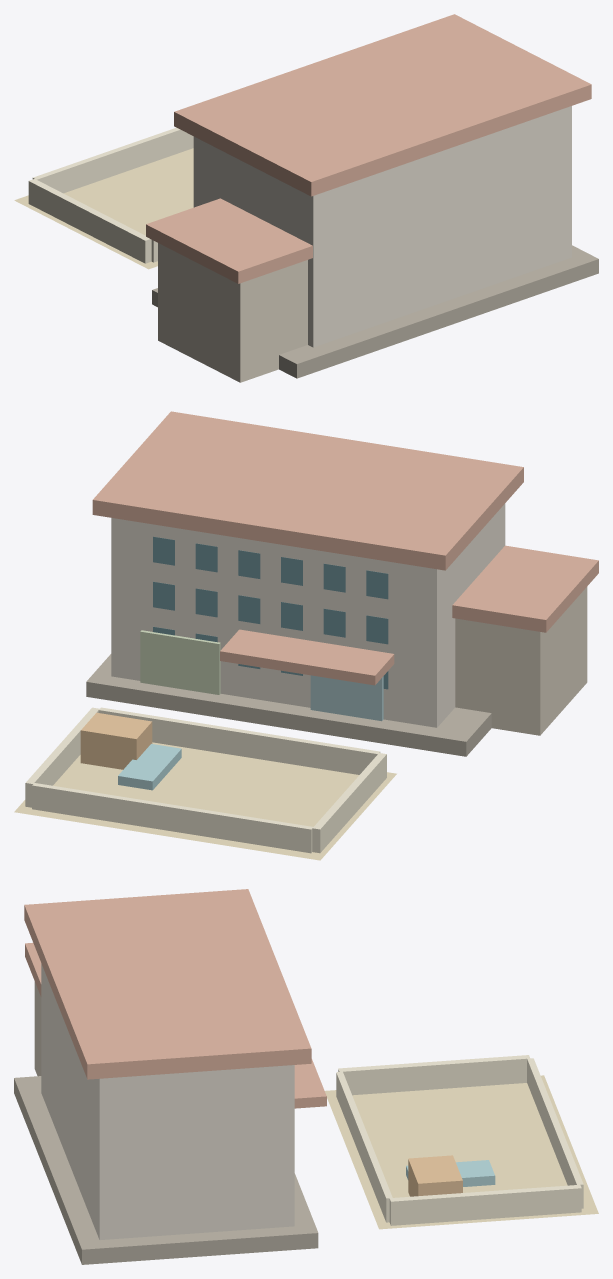
Rendered from childcare-overview.glb.
3 renders of one model, top to bottom at view 1: azimuth 30°, elevation 25°; view 2: azimuth 150°, elevation 25°; view 3: azimuth 270°, elevation 25°, orthographic. The views are drawn at different scales.
Bounding box in the file's own units: 25.9 × 11.4 × 30.5.
